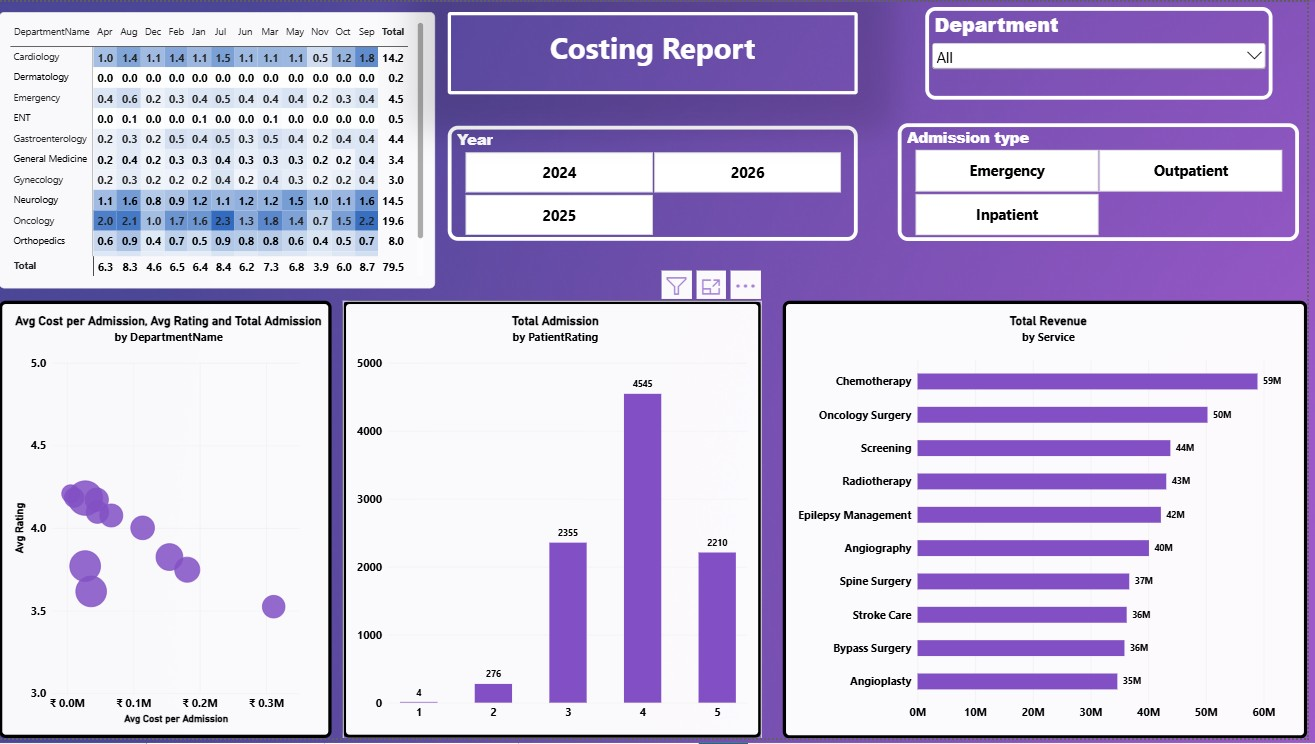

Layout of this report page (visuals, bound fields, positions):
{"tool":"powerbi","page":{"name":"Cost and Satisfaction","canvas":[1920,1080],"ordinal":1},"visuals":[{"type":"slicer","fields":{"Values":["Departments.DepartmentName"]},"box":[1359.2,7.3,509.9,135.7],"z":0},{"type":"slicer","fields":{"Values":["Datetable.Year"]},"box":[658.5,181.6,601.6,168.8],"z":1},{"type":"slicer","fields":{"Values":["Admissions.AdmissionType"]},"box":[1318.8,177.9,588.8,172.4],"z":2},{"type":"scatterChart","fields":{"Category":["Departments.DepartmentName"],"Size":["_Measures.Total Admission"],"X":["_Measures.Avg Cost per Admission"],"Y":["_Measures.Avg Rating"]},"box":[0,438.4,487.9,642],"z":3},{"type":"columnChart","fields":{"Category":["Admissions.PatientRating"],"Y":["_Measures.Total Admission"]},"box":[504.4,438.4,614.5,642],"z":4},{"type":"pivotTable","fields":{"Columns":["Datetable.Month"],"Rows":["Departments.DepartmentName"],"Values":["_Measures.Revenue (Cr)"]},"box":[0,14.7,640.2,405.4],"z":5},{"type":"barChart","fields":{"Category":["Admissions.Service"],"Y":["_Measures.Total Revenue"]},"box":[1150.6,438.4,769.8,642.2],"z":6},{"type":"textbox","box":[658.5,14.7,601.6,121.1],"z":7}]}

Visuals, with their boxes in screenshot pixels (x1, y1, x2, y2), scaled from the page's 1920x1080 canvas onto the 1315x744 screenshot:
slicer - Departments.DepartmentName: (x1=931, y1=5, x2=1280, y2=99)
slicer - Datetable.Year: (x1=451, y1=125, x2=863, y2=241)
slicer - Admissions.AdmissionType: (x1=903, y1=123, x2=1307, y2=241)
scatterChart - Departments.DepartmentName x _Measures.Total Admission: (x1=0, y1=302, x2=334, y2=743)
columnChart - Admissions.PatientRating x _Measures.Total Admission: (x1=345, y1=302, x2=766, y2=743)
pivotTable - Datetable.Month x Departments.DepartmentName: (x1=0, y1=10, x2=438, y2=289)
barChart - Admissions.Service x _Measures.Total Revenue: (x1=788, y1=302, x2=1314, y2=743)
textbox: (x1=451, y1=10, x2=863, y2=94)
